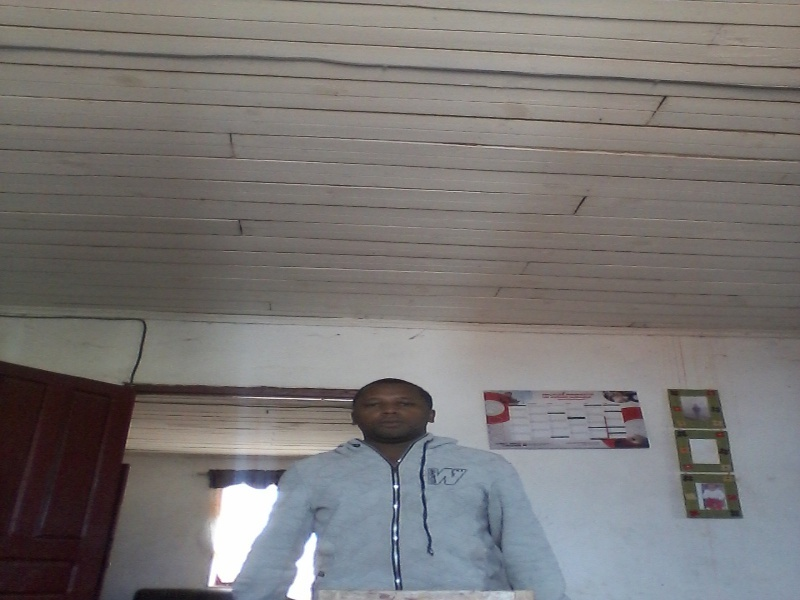TsisyArotava: (338, 371, 456, 460)
